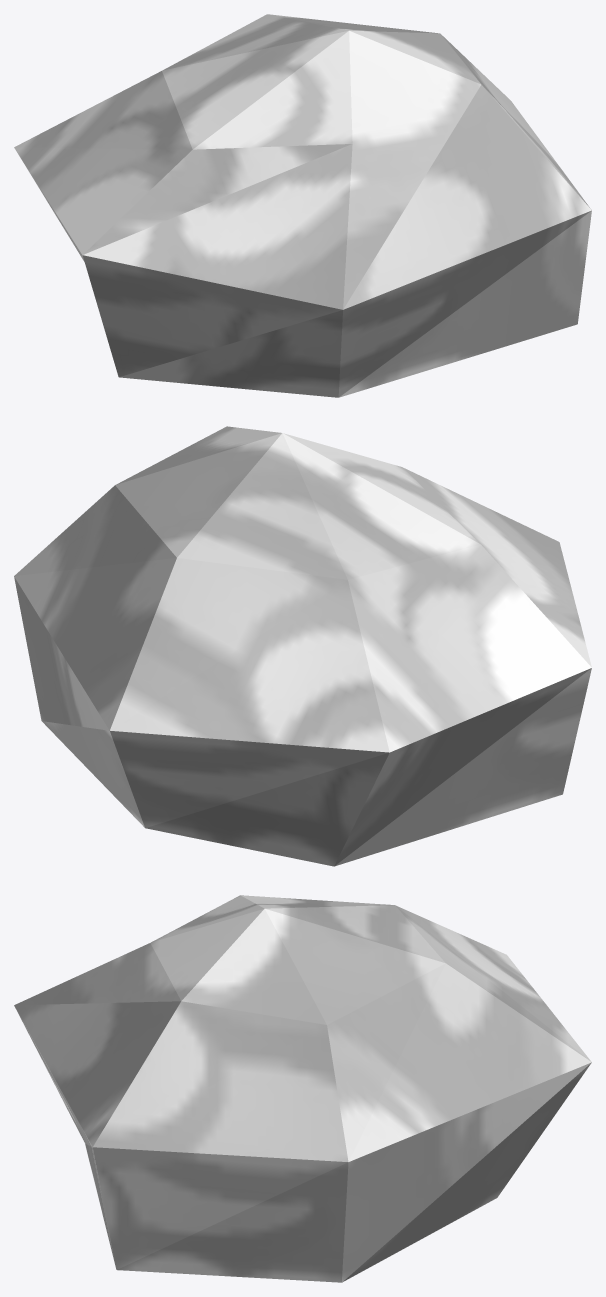
File: potato_2.obj
3 views of the same model, one above another, from view 1: azimuth 30°, elevation 25°; view 2: azimuth 150°, elevation 25°; view 3: azimuth 270°, elevation 25° (orthographic). The views are drawn at different scales.
Visible parts, largest first — view 1: potato_2; view 2: potato_2; view 3: potato_2.
Part boxes in pixels (x1=…): potato_2: x1=14, y1=14, x2=591, y2=397; potato_2: x1=14, y1=426, x2=591, y2=866; potato_2: x1=14, y1=895, x2=591, y2=1282.
Bounding box in the file's own units: 0.5378 × 0.3 × 0.5536.
